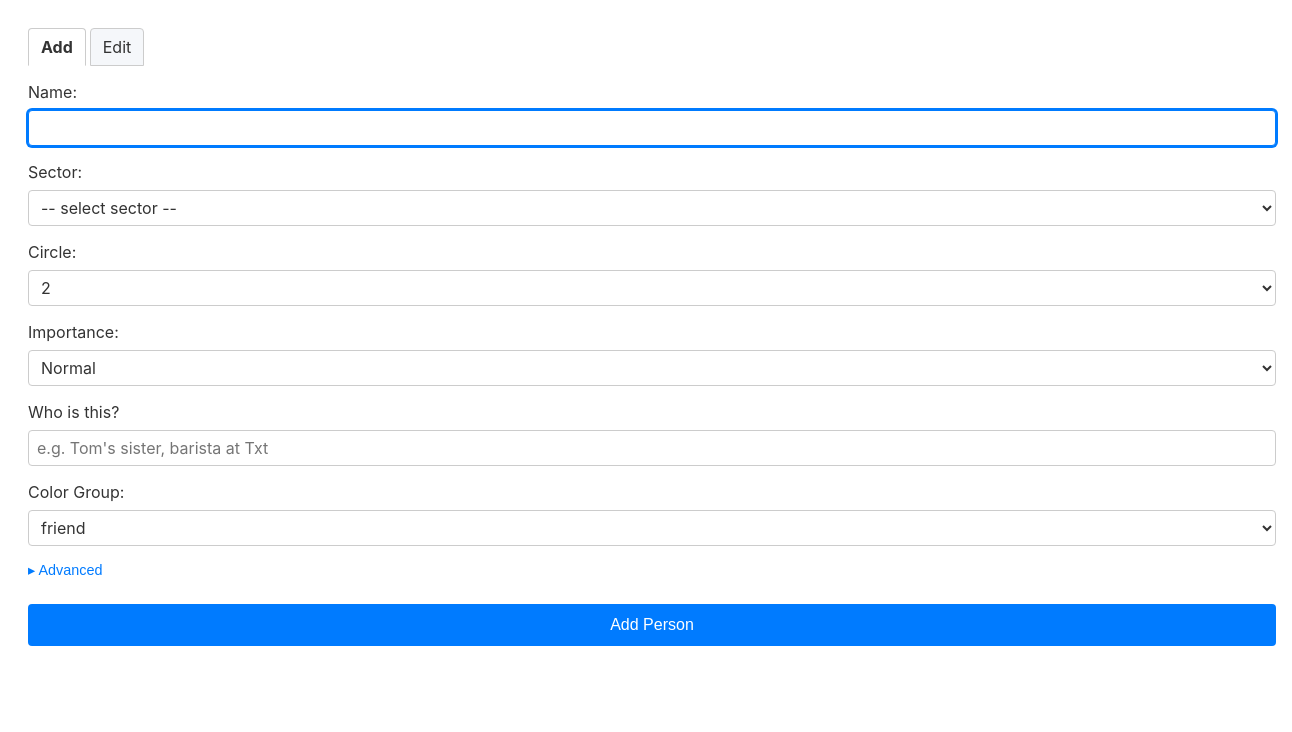
Test: Add person flow › hides Advanced fields until toggled
Expected: the field labelled "Strength:" is not shown
Click the button "▸ Advanced" at x=65, y=570, box x1=28 y1=562 x2=1276 y2=578
(page scrolled)
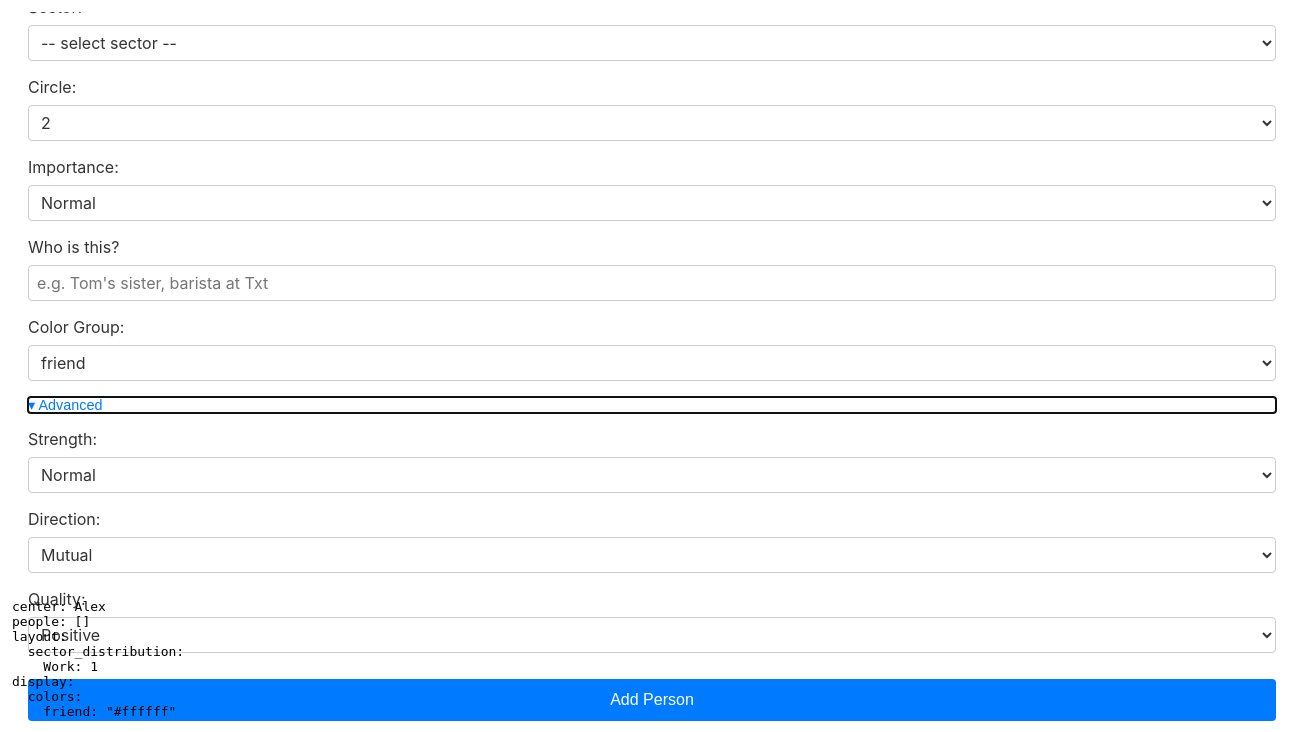
Expected: the dropdown labelled "Strength:" is shown, x1=28 y1=457 x2=1276 y2=493
Expected: the dropdown labelled "Direction:" is shown, x1=28 y1=537 x2=1276 y2=573
Expected: the dropdown labelled "Quality:" is shown, x1=28 y1=617 x2=1276 y2=653
